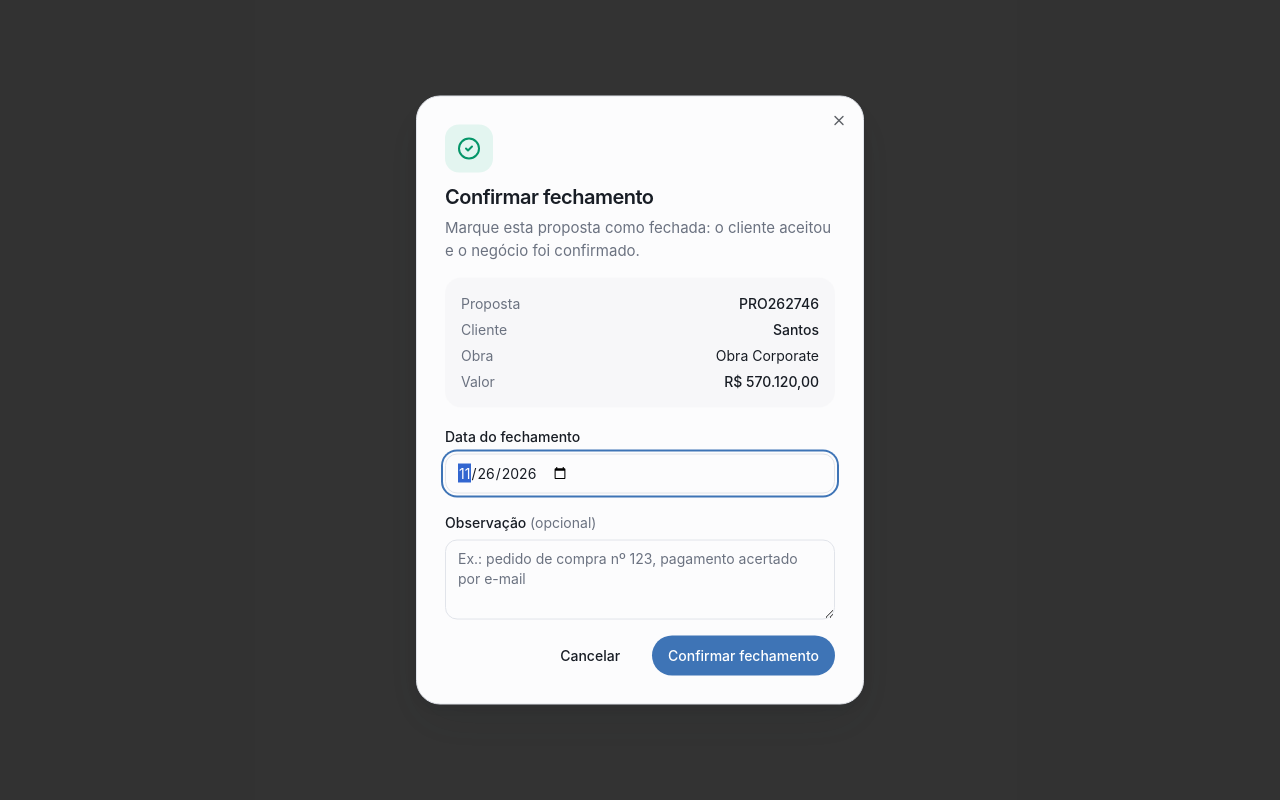
it: confirmar fechamento › data no futuro: mostra o motivo, bloqueia o botão e não grava
This screenshot has width=1280, height=800.
Type "2099-01-01" into the date field labelled "Data do fechamento". click: (640, 474)
box: [445, 454, 835, 494]
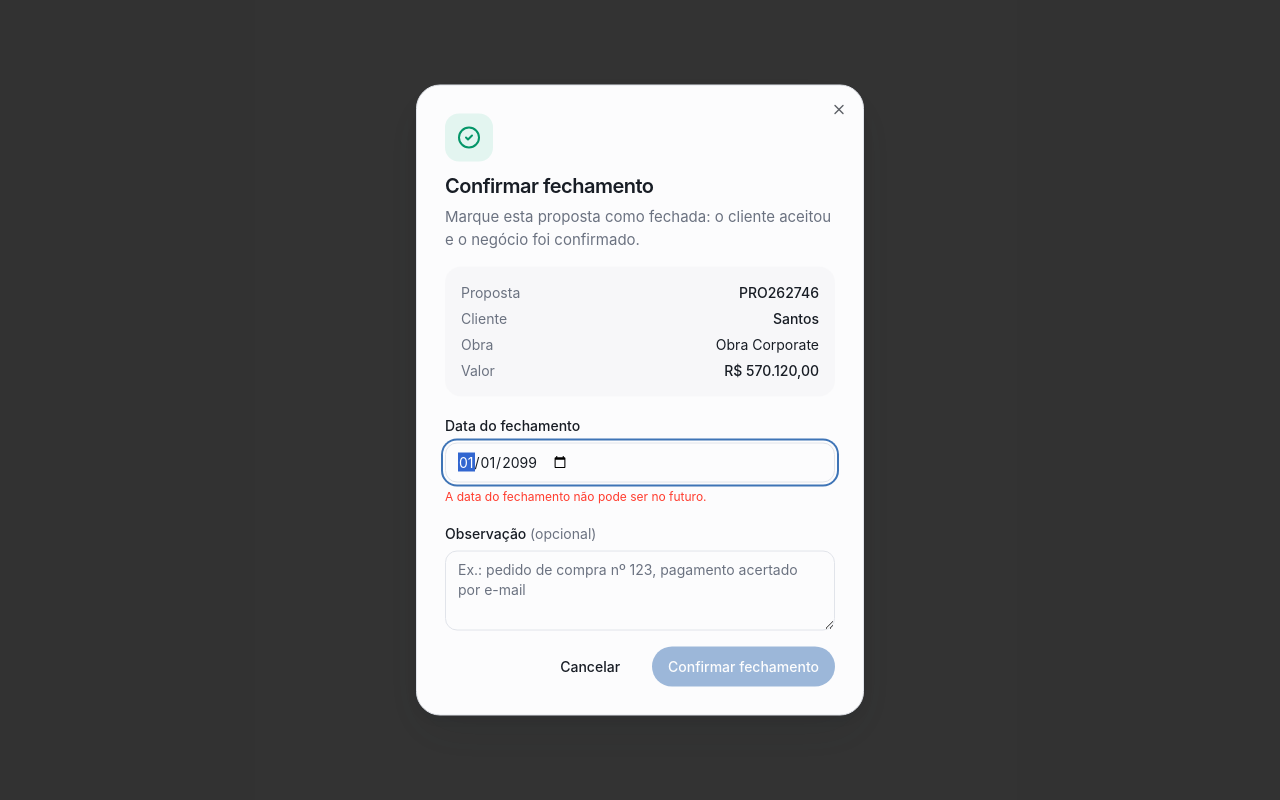
expect the text "A data do fechamento não pode ser no futuro." is shown: met, box [445, 488, 707, 504]
expect the button "Confirmar fechamento" is disabled: met, box [652, 646, 835, 686]
